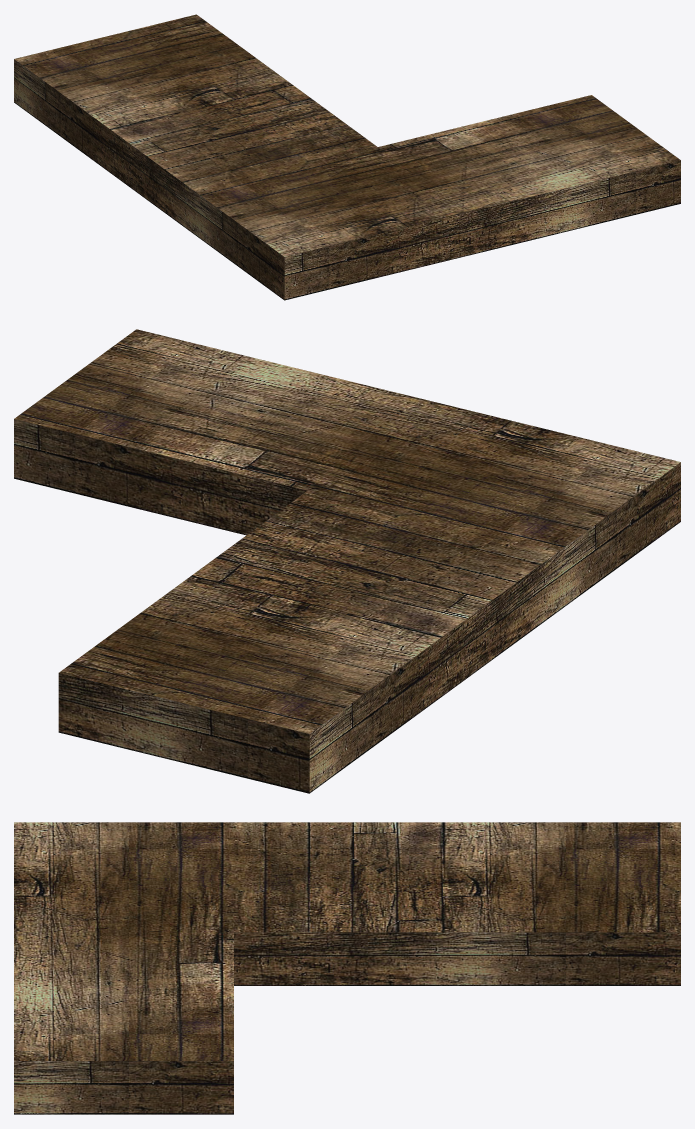
Rendered from Forest_Platform_L.FBX.
3 views of the same model, one above another, from view 1: azimuth 30°, elevation 25°; view 2: azimuth 150°, elevation 25°; view 3: azimuth 270°, elevation 25° (orthographic). The views are drawn at different scales.
Visible parts, largest first — view 1: Platform_L; view 2: Platform_L; view 3: Platform_L.
Part boxes in pixels (x1,y1,x2,y2): Platform_L: (14,14,680,300); Platform_L: (14,329,680,793); Platform_L: (14,822,680,1114).
Bounding box in the file's own units: 1678 × 176 × 1984.
